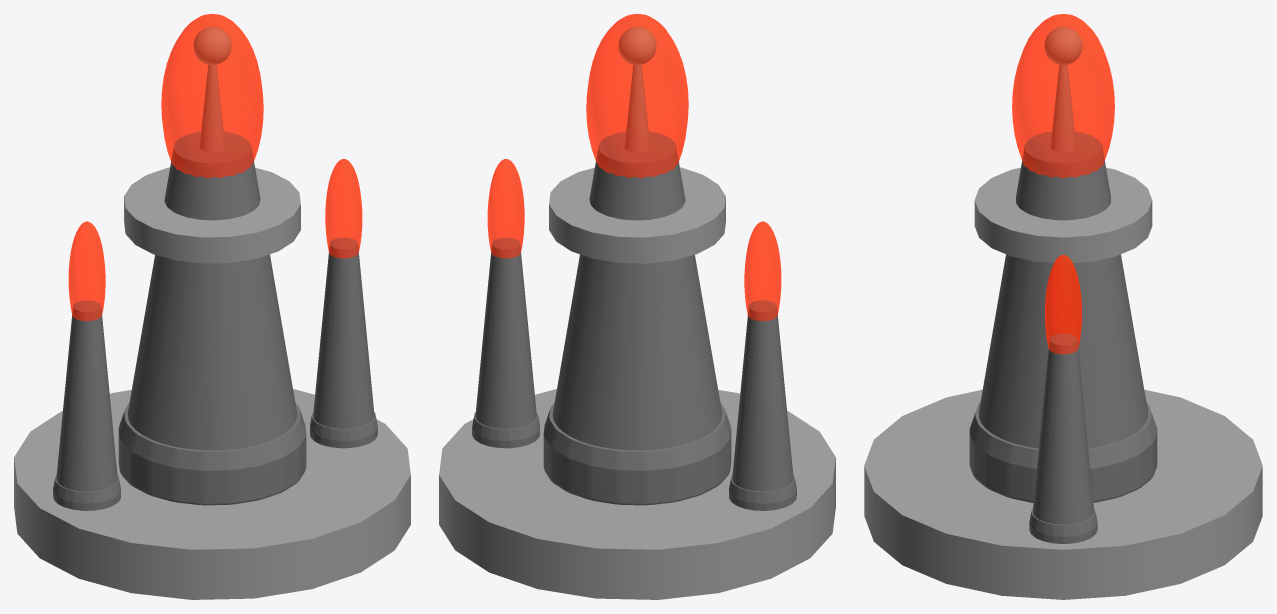
File: sos signal.fbx
3 views of the same model, side by side, from view 1: azimuth 30°, elevation 25°; view 2: azimuth 150°, elevation 25°; view 3: azimuth 270°, elevation 25° (orthographic).
Visible parts, largest first — view 1: pCylinder3, pCylinder4, pCylinder5, pCylinder6, pCylinder7, pCylinder8, pSphere2; view 2: pCylinder3, pCylinder4, pCylinder5, pCylinder6, pCylinder7, pCylinder8, pSphere2; view 3: pCylinder4, pCylinder3, pCylinder5, pCylinder7, pCylinder8, pSphere2.
Part boxes in pixels (box(x1,y1,x2,y2)): pCylinder3: box(118, 14, 306, 505); pCylinder4: box(14, 389, 410, 599); pCylinder5: box(310, 159, 377, 448); pCylinder6: box(53, 221, 120, 510); pCylinder7: box(124, 167, 300, 263); pCylinder8: box(200, 65, 224, 151); pSphere2: box(193, 27, 231, 64); pCylinder3: box(543, 14, 731, 505); pCylinder4: box(439, 389, 835, 599); pCylinder5: box(472, 159, 539, 448); pCylinder6: box(729, 221, 796, 510); pCylinder7: box(549, 167, 725, 263); pCylinder8: box(625, 65, 649, 151); pSphere2: box(618, 27, 656, 64); pCylinder4: box(864, 389, 1262, 599); pCylinder3: box(969, 14, 1157, 502); pCylinder5: box(1029, 255, 1097, 543); pCylinder7: box(974, 167, 1152, 262); pCylinder8: box(1050, 65, 1076, 151); pSphere2: box(1044, 27, 1082, 64).
Bounding box in the file's own units: 4.22 × 5.83 × 4.22.
